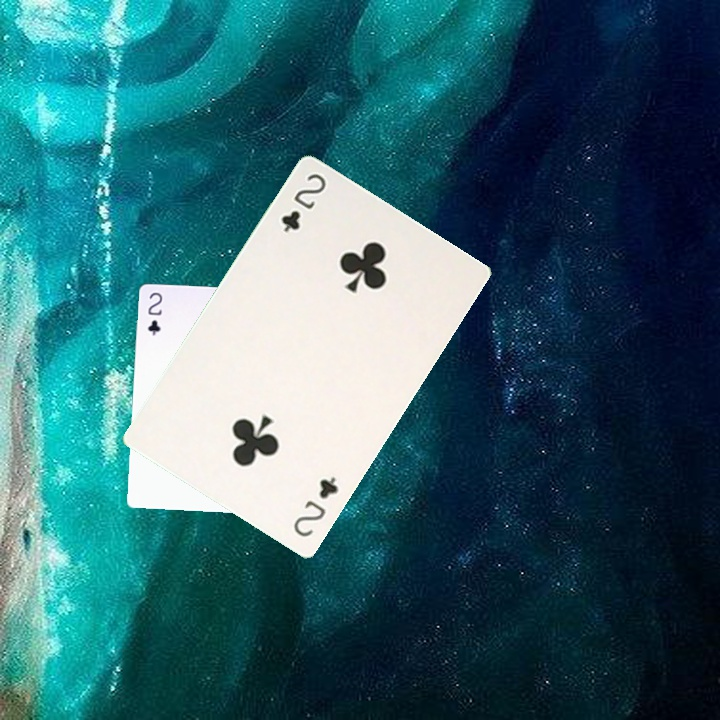2c: (289, 472, 341, 540), (277, 169, 329, 235), (143, 288, 165, 338)
